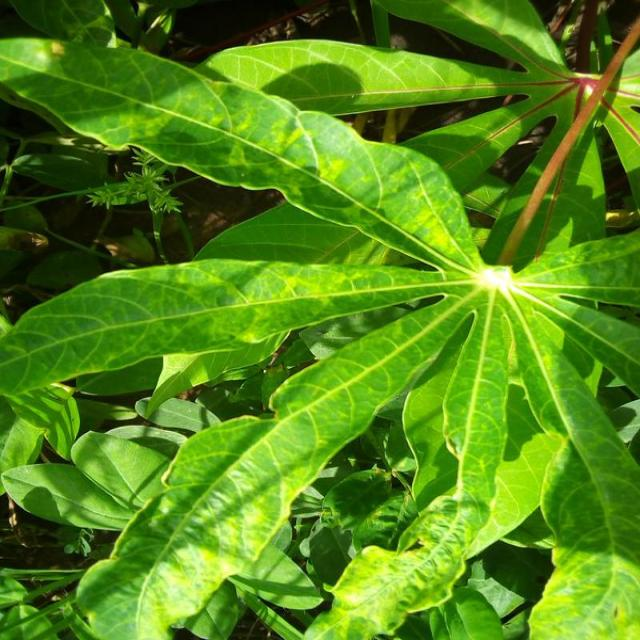cassava leaf: (0, 9, 638, 638)
